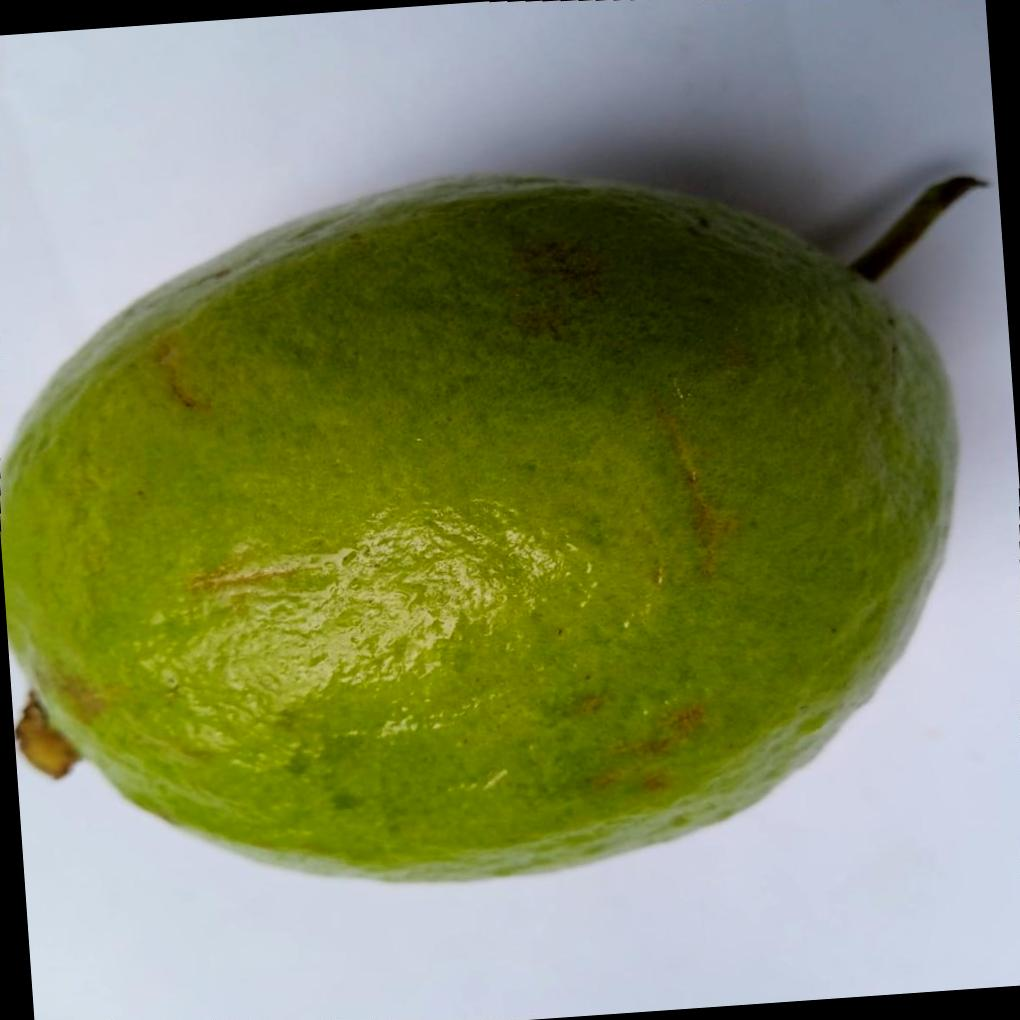FreshGuava: (0, 169, 965, 887)
